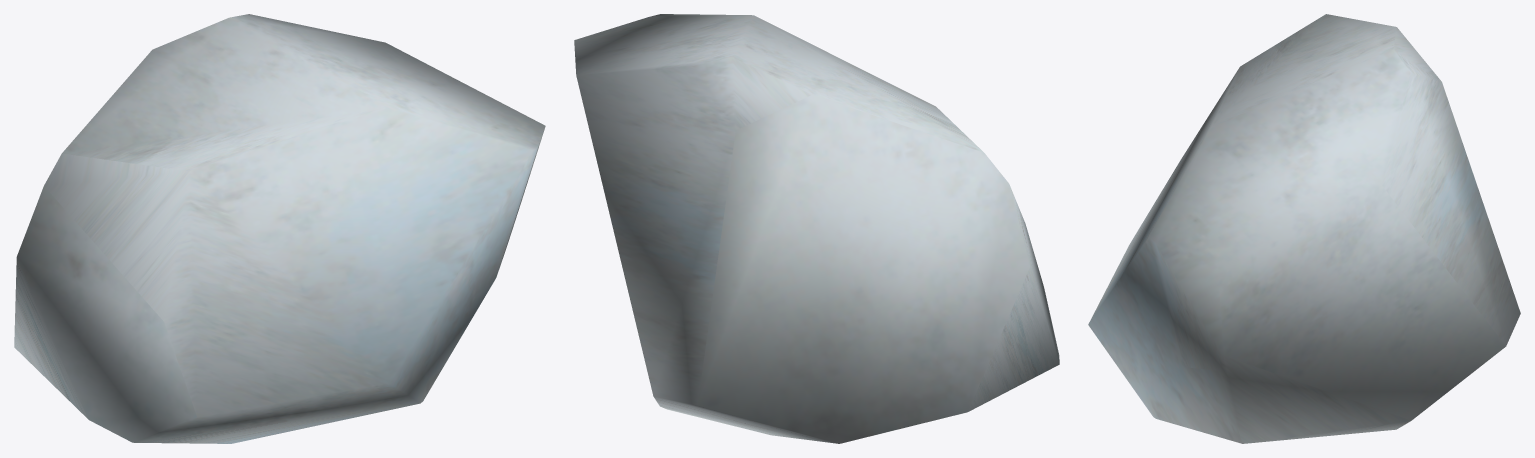
Rendered from P_RockDesert_Rock05.obj.
The picture shows the model from 3 angles, left to right: view 1: azimuth 30°, elevation 25°; view 2: azimuth 150°, elevation 25°; view 3: azimuth 270°, elevation 25°; orthographic projection. The views are drawn at different scales.
Bounding box in the file's own units: 0.7973 × 0.5566 × 0.6083.
